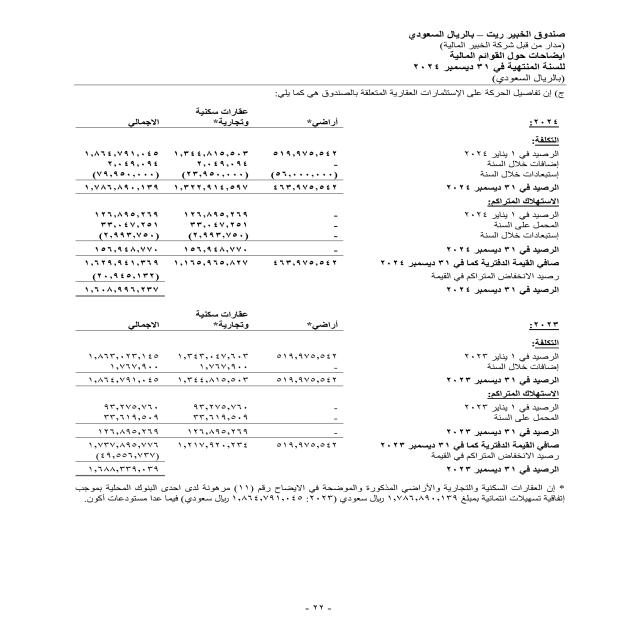notes: (423, 51, 567, 60)
table: (54, 103, 351, 304), (48, 319, 350, 478)
